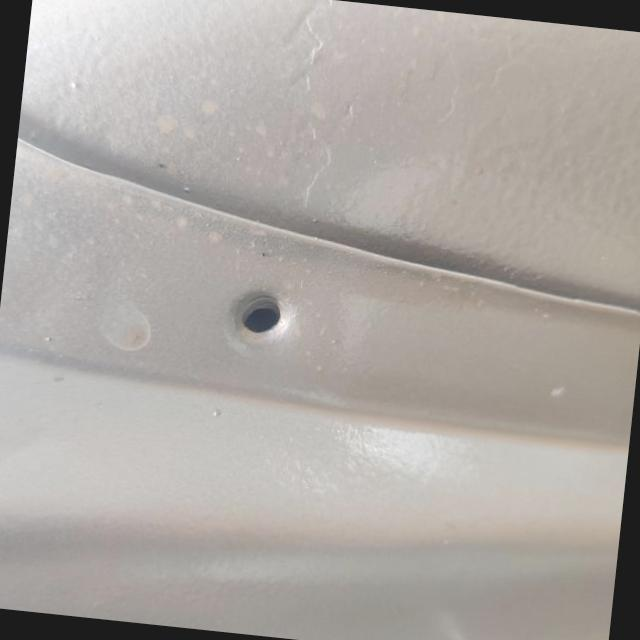Missing Fastener: (217, 281, 306, 365)
